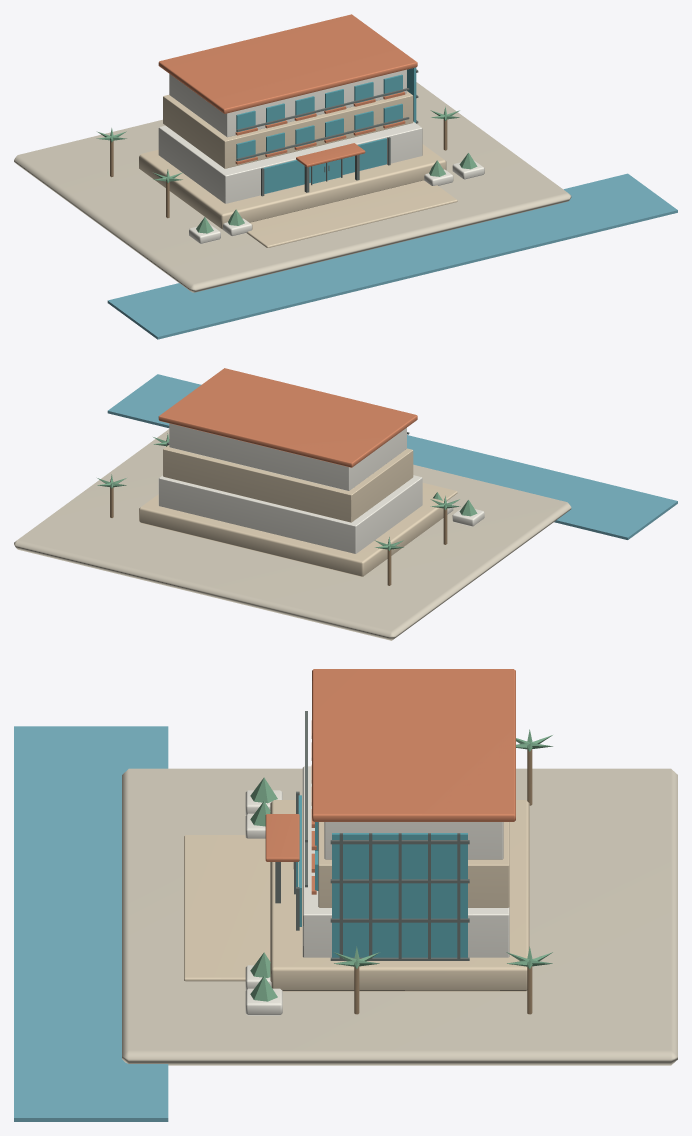
The model's file is seaside-hotel.glb.
3 views of the same model, one above another, from view 1: azimuth 30°, elevation 25°; view 2: azimuth 150°, elevation 25°; view 3: azimuth 270°, elevation 25° (orthographic). The views are drawn at different scales.
Visible parts, largest first — view 1: Site | landscaped island, Coast | water strip, Hotel | roof slab, Hotel | podium, Hotel | ground floor, Entry | stone forecourt, Hotel | first floor, Hotel | second floor, Lobby | glass curtain wall, Lobby | entrance canopy, Facade | floor 2 balcony rail, Facade | floor 1 balcony rail; view 2: Site | landscaped island, Hotel | roof slab, Coast | water strip, Hotel | ground floor, Hotel | first floor, Hotel | podium, Hotel | second floor; view 3: Site | landscaped island, Coast | water strip, Hotel | roof slab, Hotel | podium, Atrium | east glass wing, Entry | stone forecourt, Hotel | ground floor, Hotel | first floor, Hotel | second floor, Lobby | entrance canopy, Landscape | planter 4, Atrium | bronze transom.002 (+2 smaller).
Part boxes in pixels (<box>): Site | landscaped island: <box>14,82,571,292</box>; Coast | water strip: <box>107,173,677,339</box>; Hotel | roof slab: <box>158,14,417,113</box>; Hotel | podium: <box>139,144,446,229</box>; Hotel | ground floor: <box>158,121,422,203</box>; Entry | stone forecourt: <box>247,180,457,247</box>; Hotel | first floor: <box>163,91,413,168</box>; Hotel | second floor: <box>169,69,406,137</box>; Lobby | glass curtain wall: <box>263,138,386,193</box>; Lobby | entrance canopy: <box>296,143,365,167</box>; Facade | floor 2 balcony rail: <box>236,88,409,131</box>; Facade | floor 1 balcony rail: <box>236,117,409,160</box>; Site | landscaped island: <box>14,429,571,640</box>; Hotel | roof slab: <box>158,368,417,467</box>; Coast | water strip: <box>107,374,677,539</box>; Hotel | ground floor: <box>158,475,422,553</box>; Hotel | first floor: <box>163,445,413,522</box>; Hotel | podium: <box>139,494,443,576</box>; Hotel | second floor: <box>169,423,406,490</box>; Site | landscaped island: <box>122,768,677,1065</box>; Coast | water strip: <box>14,726,168,1121</box>; Hotel | roof slab: <box>312,669,515,821</box>; Hotel | podium: <box>270,800,529,991</box>; Atrium | east glass wing: <box>332,833,467,957</box>; Entry | stone forecourt: <box>184,835,270,981</box>; Hotel | ground floor: <box>302,766,509,957</box>; Hotel | first floor: <box>318,822,509,907</box>; Hotel | second floor: <box>324,822,503,859</box>; Lobby | entrance canopy: <box>265,814,299,861</box>; Landscape | planter 4: <box>245,988,282,1015</box>; Atrium | bronze transom.002: <box>330,879,469,883</box>.
Bounding box in the file's own units: 30 × 6.6 × 21.5.
